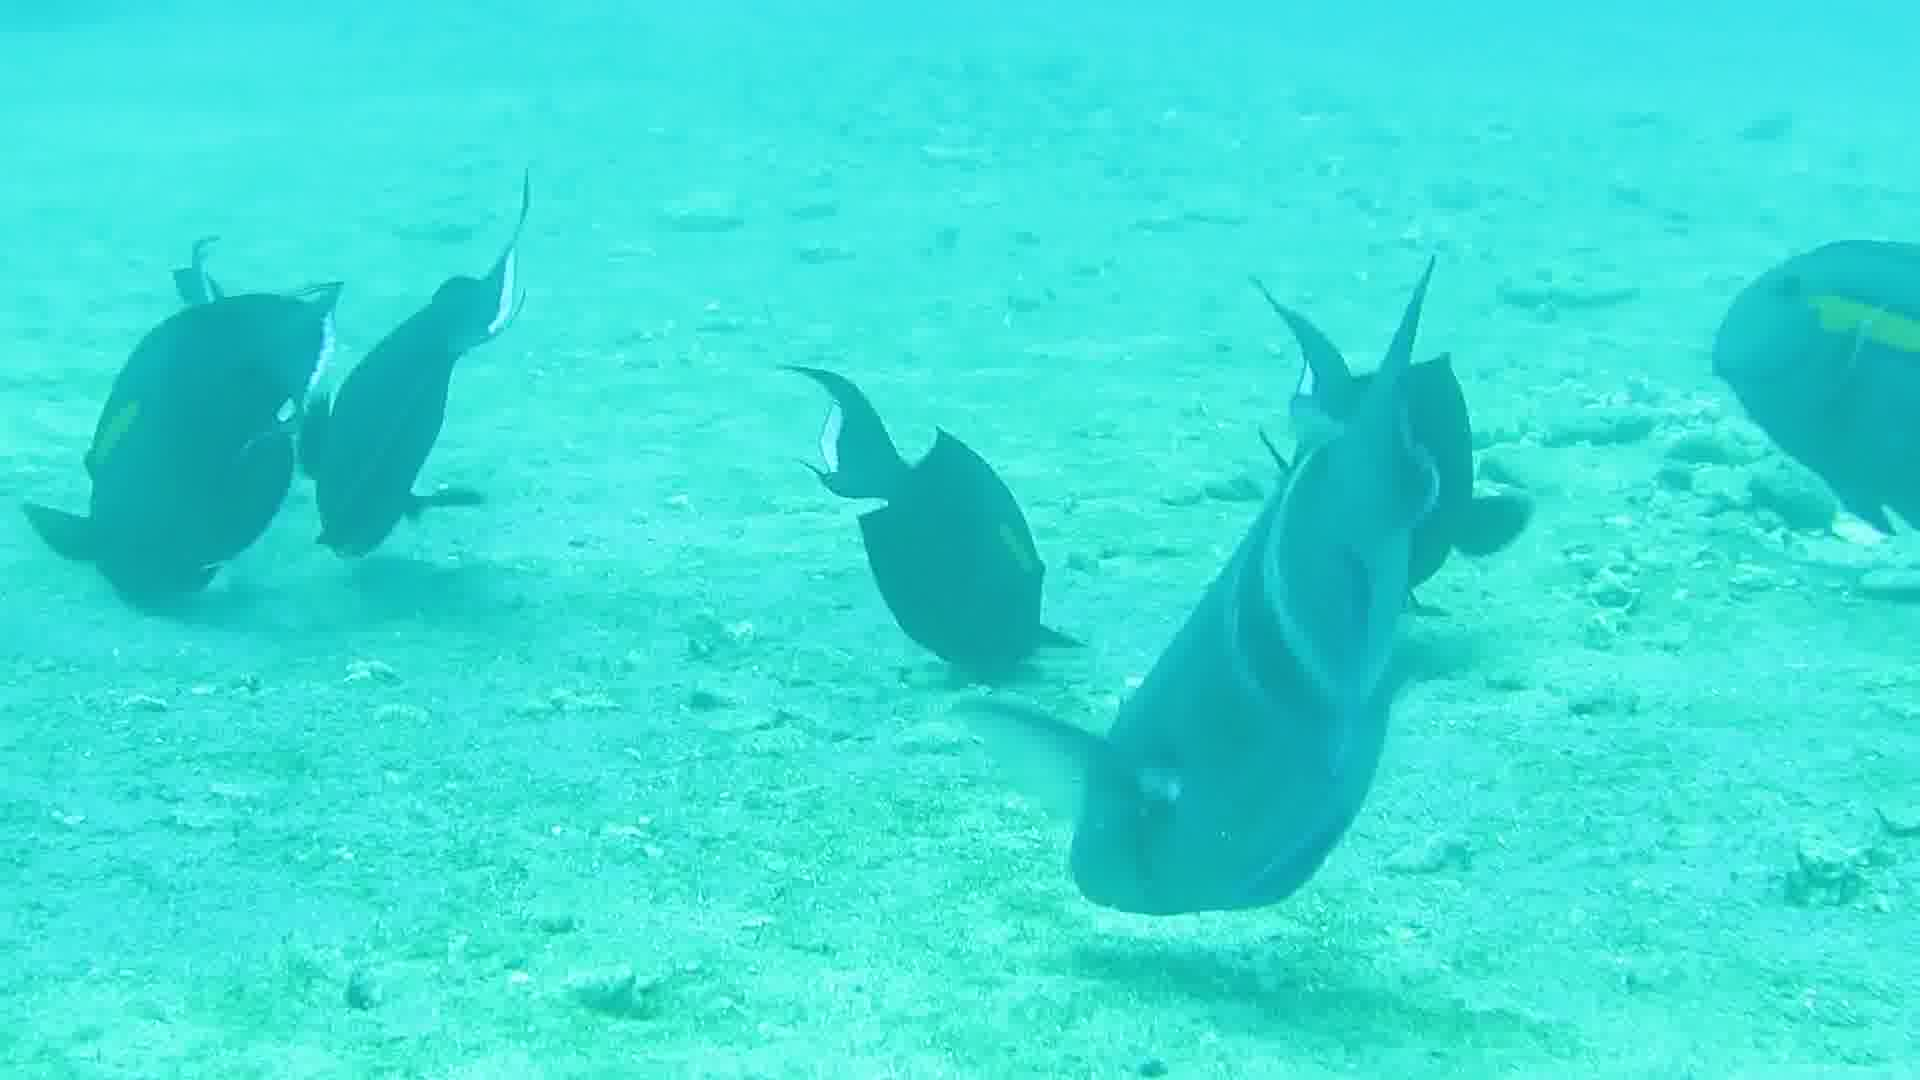Acanthurus olivaceus: (1040, 342, 1547, 971), (70, 120, 299, 618), (313, 117, 542, 616), (822, 236, 1050, 735)
